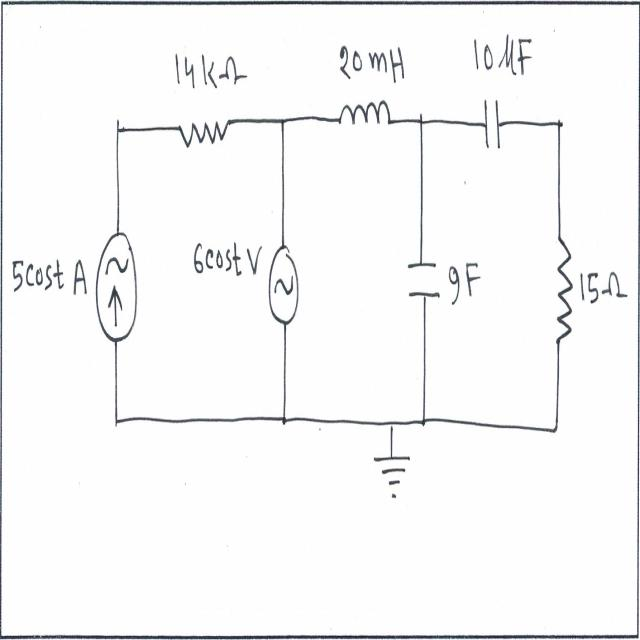ac_current: (264, 237, 306, 329)
capacitor: (402, 251, 442, 310), (480, 90, 504, 149)
current_source: (94, 219, 140, 348)
ground: (369, 442, 416, 508)
inductor: (335, 98, 396, 138)
resistor: (179, 105, 236, 164), (552, 230, 576, 356)
